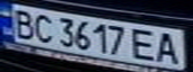1: (90, 20, 109, 54)
3: (54, 16, 78, 48)
6: (72, 18, 93, 52)
7: (106, 22, 130, 56)
A: (151, 29, 187, 65)
B: (6, 7, 39, 39)
C: (30, 11, 57, 44)
E: (130, 26, 163, 62)
